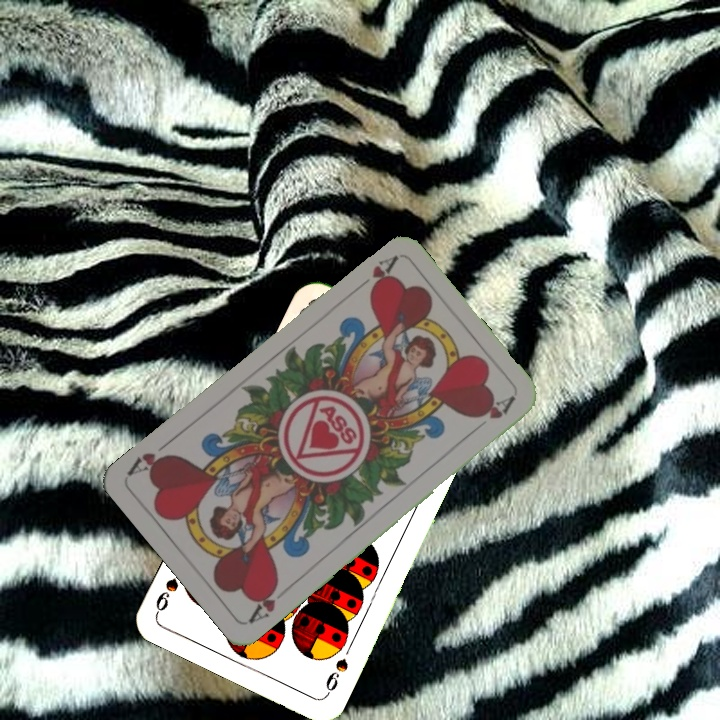HA: (245, 577, 293, 626), (349, 252, 399, 296)
S9: (321, 654, 351, 699)
